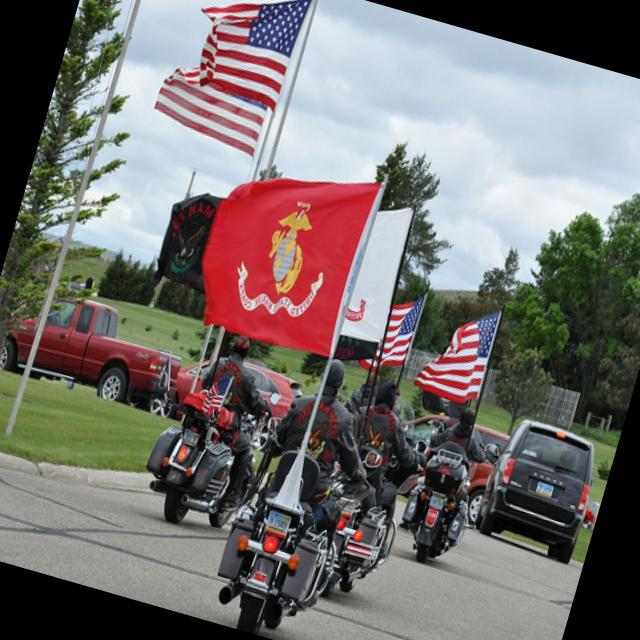Vehicle: (198, 436, 353, 640), (0, 281, 192, 423), (0, 279, 191, 421), (462, 410, 608, 564), (131, 400, 285, 544), (162, 341, 308, 453), (380, 405, 510, 529), (305, 468, 408, 602), (390, 444, 482, 575)
